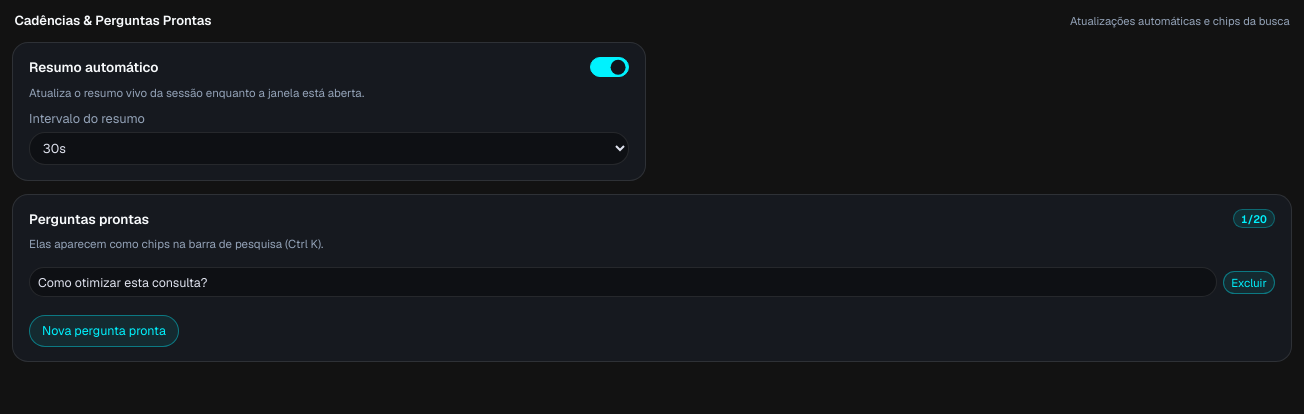
Test: CadenceSettings › acrescenta e remove uma pergunta pronta
Expected: the field named "Pergunta pronta" holds "Como otimizar esta consulta?", 29,267 -> 1217,298
Click the button "Nova pergunta pronta". click: (104, 331)
box: 29,315 -> 179,347
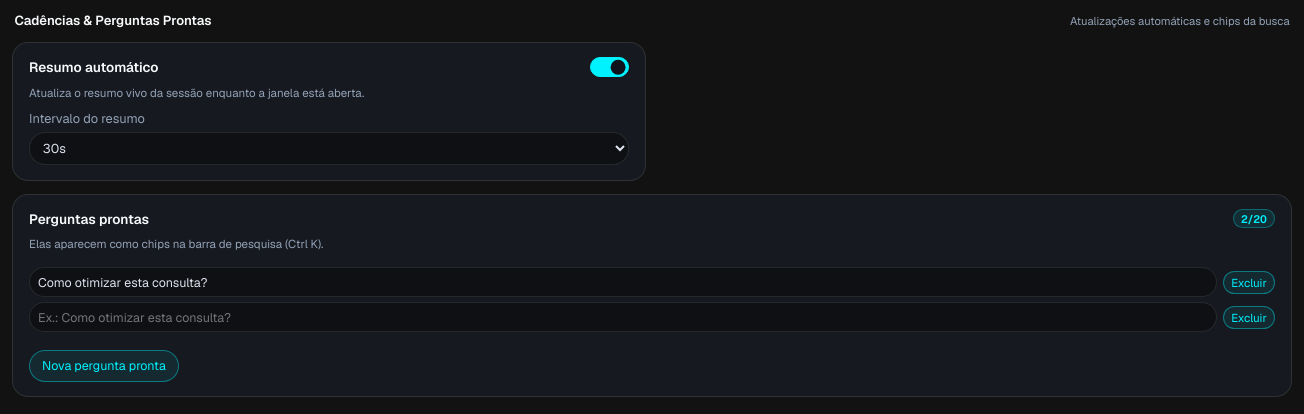
Now the number of fields named "Pergunta pronta" is 2, box 29,267 -> 1217,298; 29,302 -> 1217,332
Click the button with aria-label "Remover pergunta pronta". click: (1249, 282)
box: 1223,271 -> 1275,294
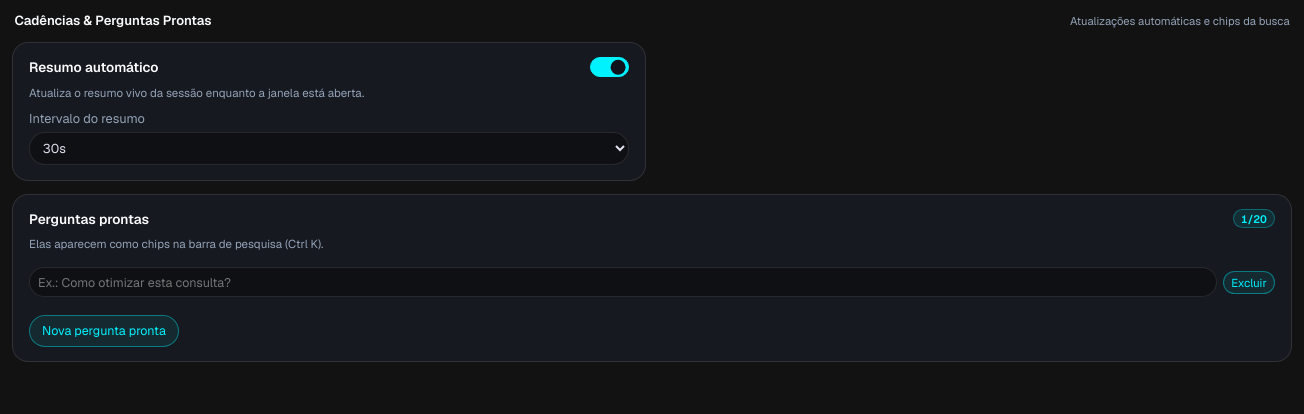
Now the number of fields named "Pergunta pronta" is 1, box 29,267 -> 1217,298
